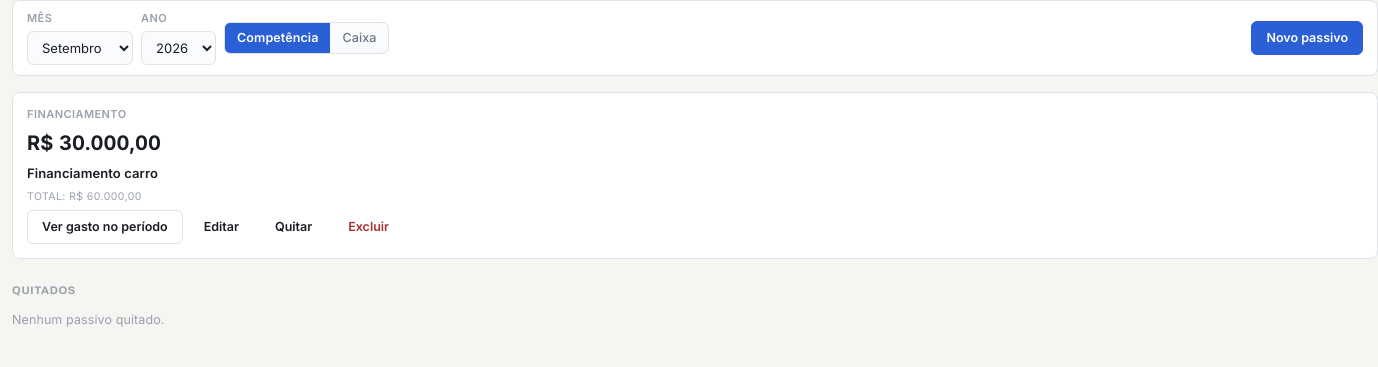
LiabilitiesPage › settling an already-settled liability surfaces the backend's idempotency error
Expected: the text "Financiamento carro" is shown, [27,165,158,181]
Click the button "Quitar": (294, 227) [260,210,327,244]
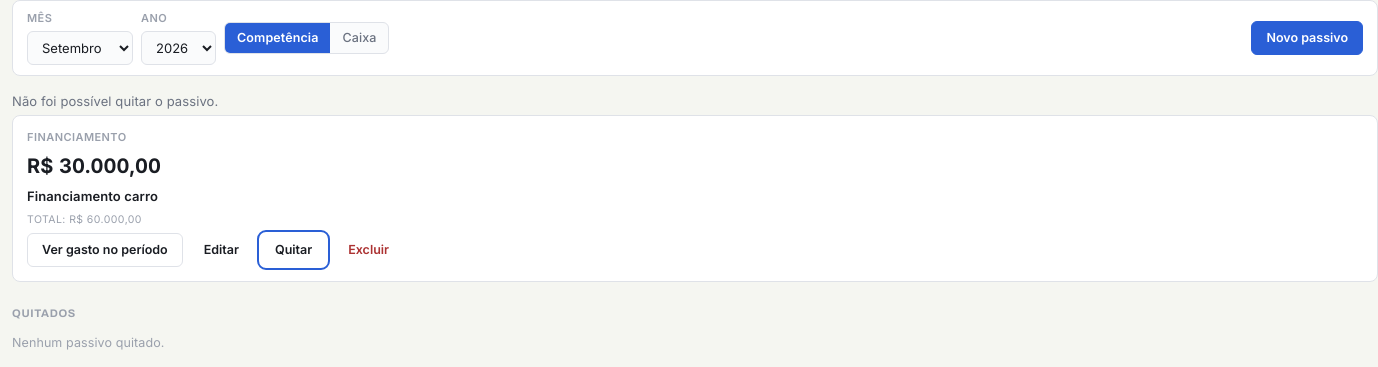
Now the text "Não foi possível quitar o passivo." is shown, box [12,93,218,109]
